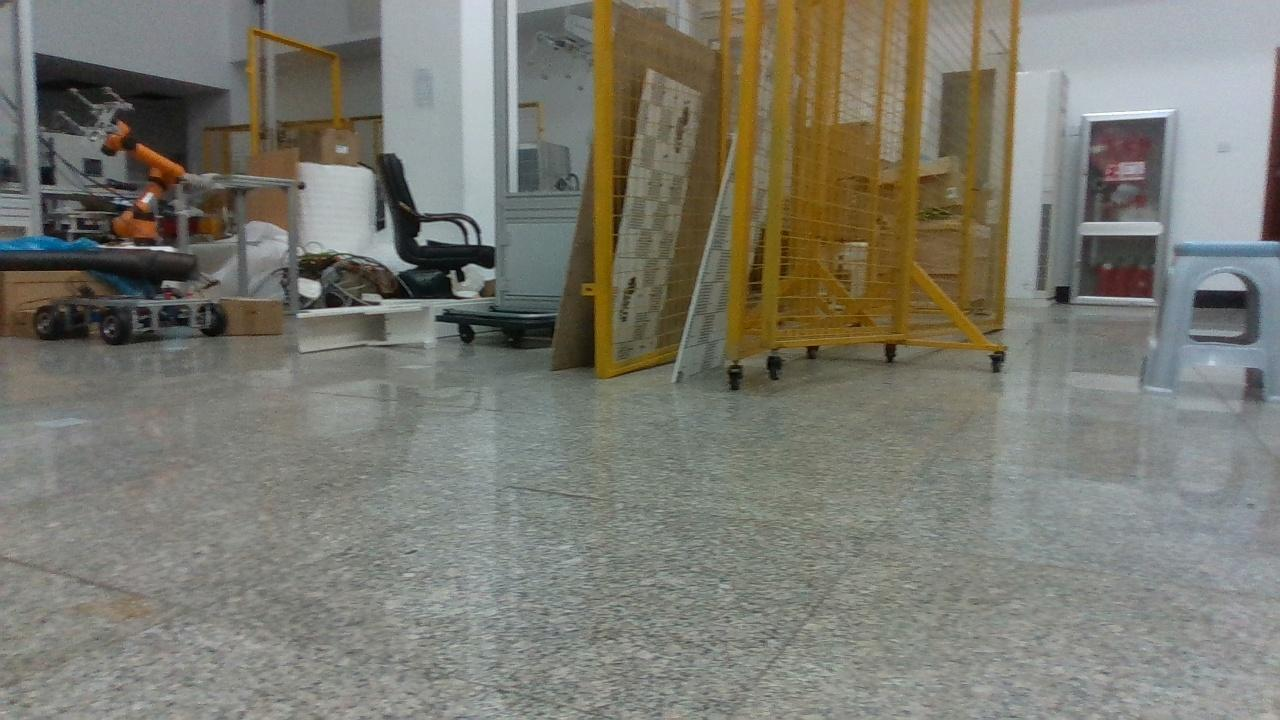stool: (1142, 244, 1280, 402)
